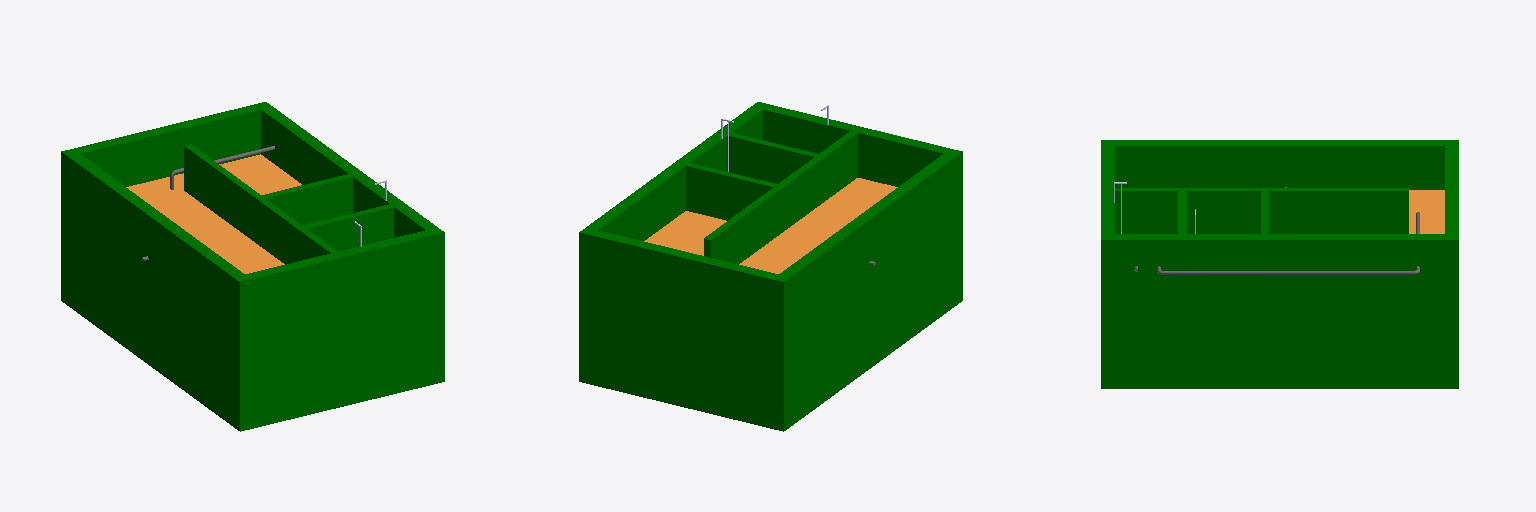
Rendered from A20-chi.obj.
3 views of the same model, side by side, from view 1: azimuth 30°, elevation 25°; view 2: azimuth 150°, elevation 25°; view 3: azimuth 270°, elevation 25° (orthographic).
Visible parts, largest first — view 1: NONE_DC_Brep; view 2: NONE_DC_Brep; view 3: NONE_DC_Brep.
Boxes of the visible parts, x1,y1,x2,y2 form: NONE_DC_Brep: [61, 102, 444, 431]; NONE_DC_Brep: [579, 102, 962, 431]; NONE_DC_Brep: [1101, 140, 1458, 388].
Size of the model in its own units: 9250 by 6800 by 13000.